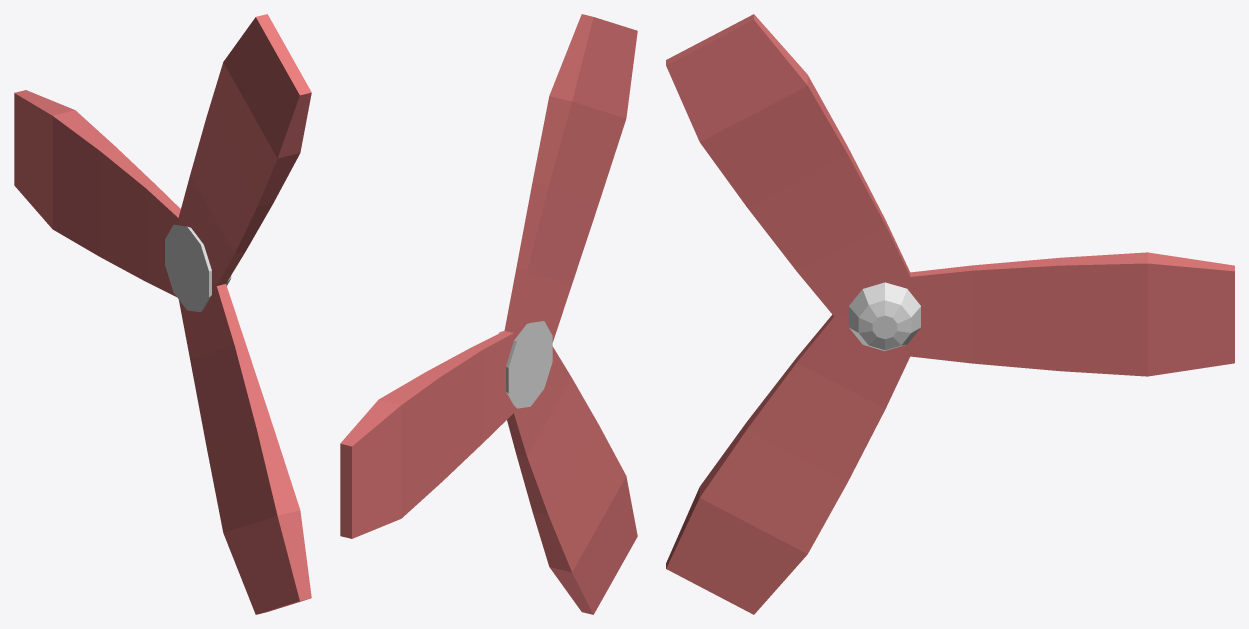
File: submarine_propeller.fbx
3 renders of one model, left to right at view 1: azimuth 30°, elevation 25°; view 2: azimuth 150°, elevation 25°; view 3: azimuth 270°, elevation 25°, orthographic.
Parts seen in each view (by area): view 1: Cube.004, Cube.003, Cube.005, Cylinder.011; view 2: Cube.003, Cube.005, Cube.004, Cylinder.011; view 3: Cube.005, Cube.003, Cube.004, Cylinder.011.
Part boxes in pixels (left/top/right/bottom): Cube.004: left=178, top=283, right=311, bottom=614; Cube.003: left=178, top=14, right=311, bottom=285; Cube.005: left=14, top=90, right=180, bottom=296; Cylinder.011: left=165, top=224, right=231, bottom=312; Cube.003: left=504, top=14, right=637, bottom=342; Cube.005: left=340, top=331, right=515, bottom=538; Cube.004: left=507, top=346, right=637, bottom=614; Cylinder.011: left=498, top=321, right=552, bottom=408; Cube.005: left=904, top=252, right=1234, bottom=376; Cube.003: left=666, top=14, right=910, bottom=316; Cube.004: left=666, top=314, right=910, bottom=614; Cylinder.011: left=848, top=282, right=920, bottom=350.
Size of the model in its own units: 13.72 by 206 by 179.
